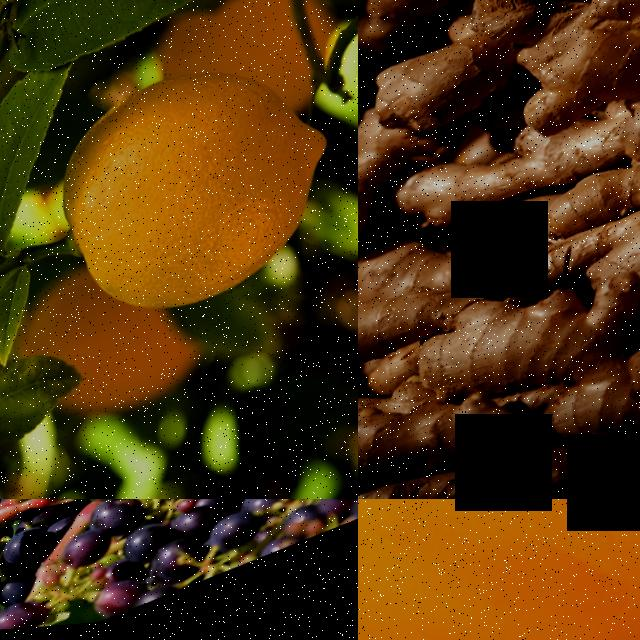ginger: (358, 0, 640, 194), (456, 254, 640, 494), (358, 289, 507, 499), (358, 499, 640, 590), (358, 61, 429, 340)
grapes: (47, 499, 358, 631)
lemon: (28, 28, 358, 355)
